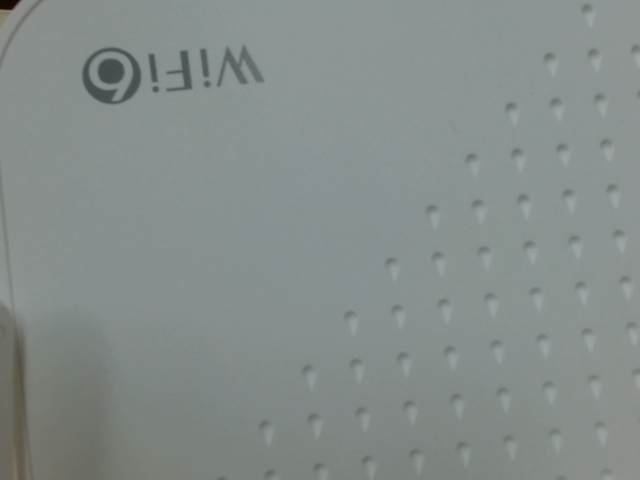AK_ZTEWIFI6: (64, 39, 282, 107)
